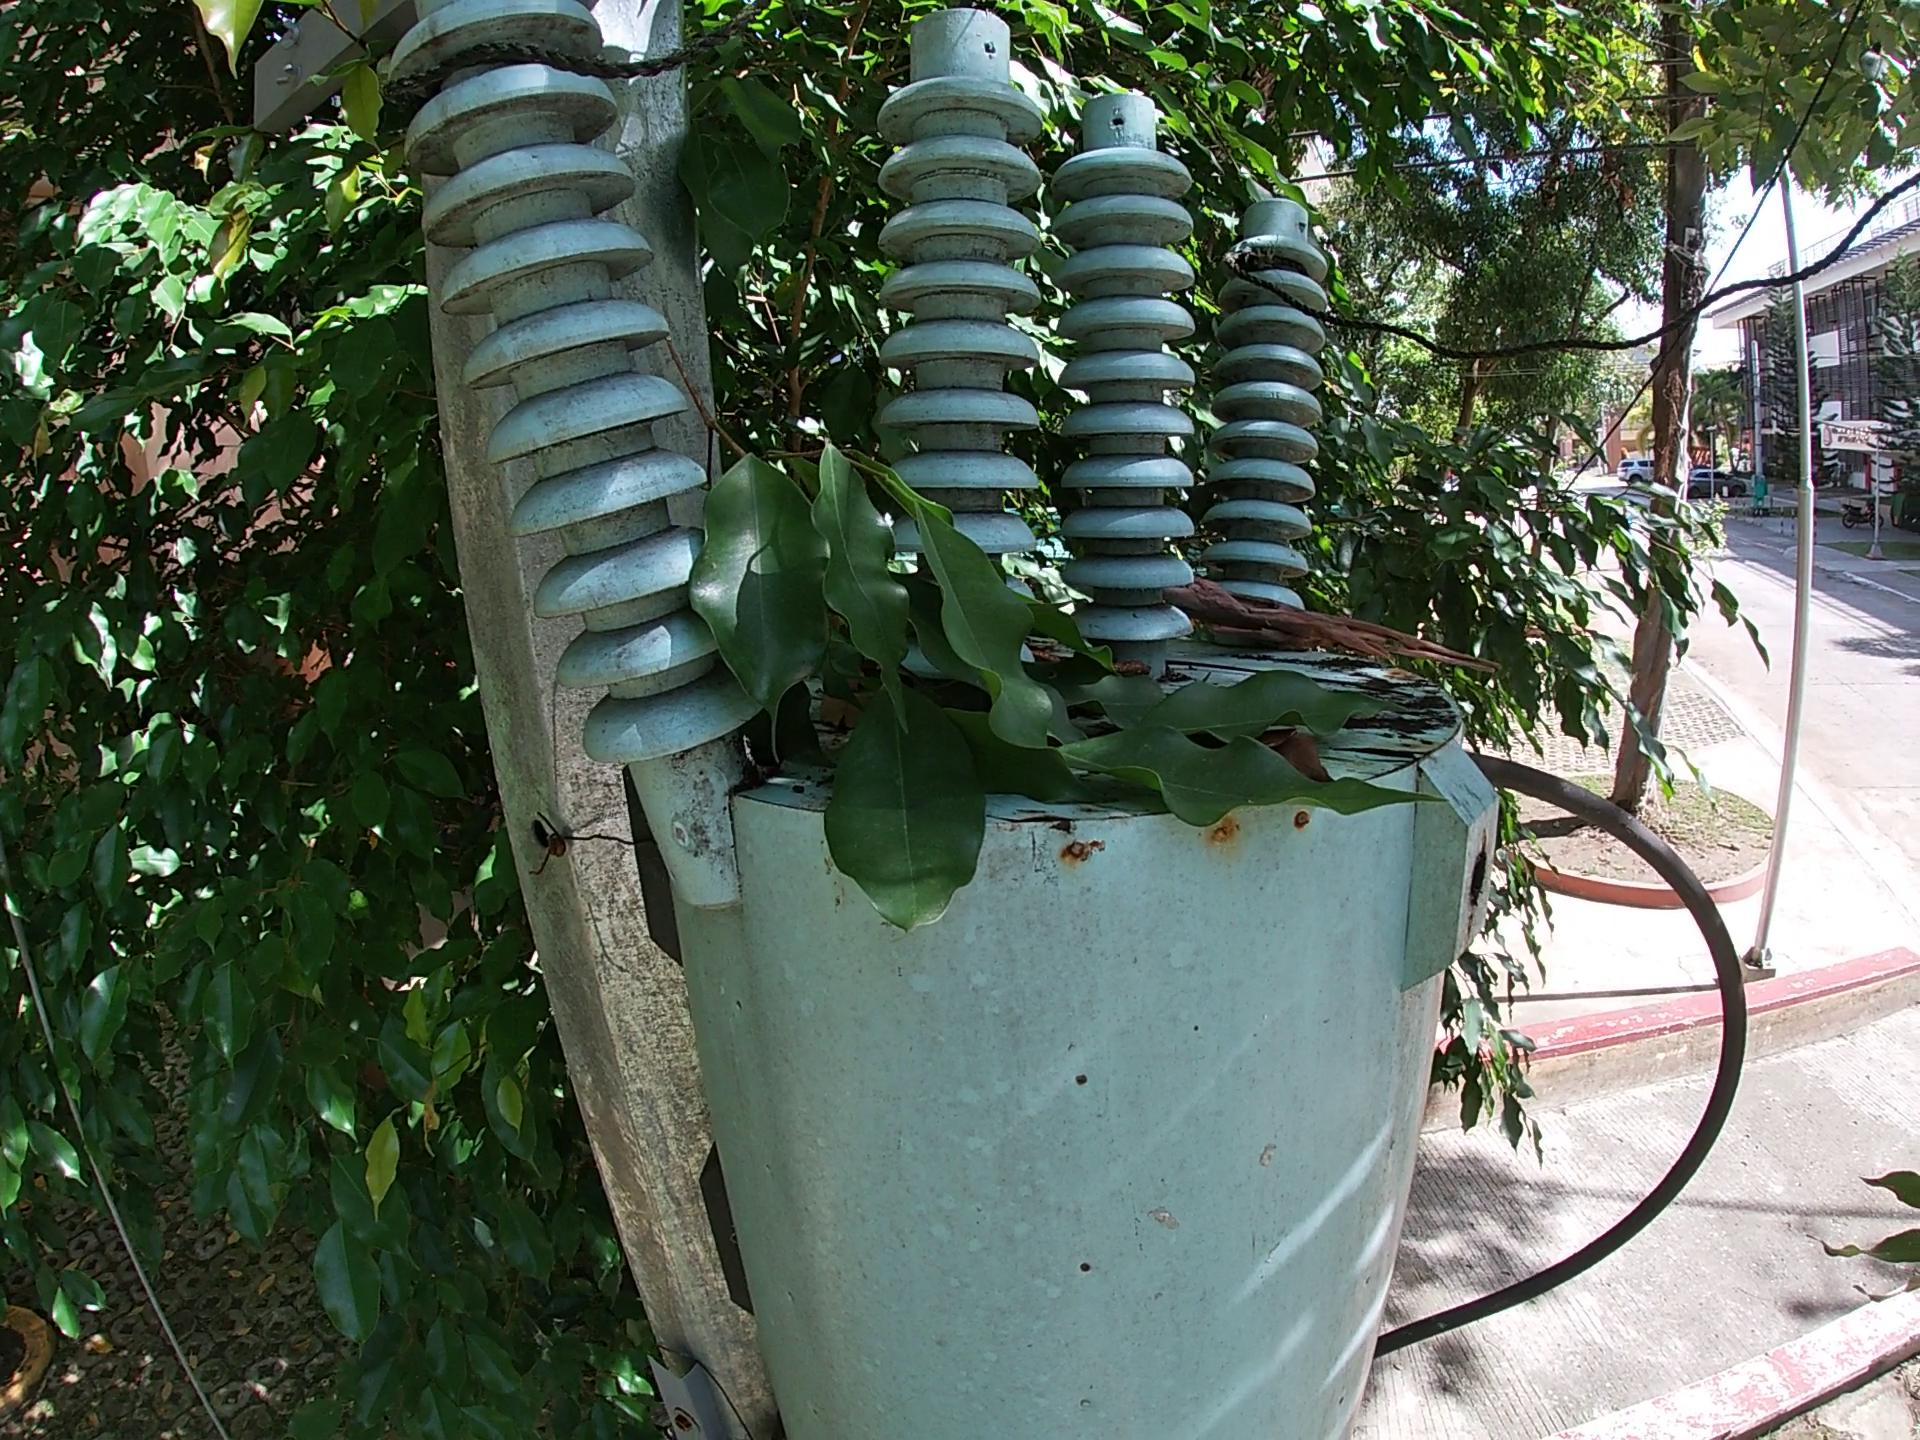branch with leaves: (621, 324, 1482, 959)
mahogany fruit: (1027, 646, 1147, 685), (1276, 746, 1359, 781)
tree branch: (1175, 590, 1504, 679), (1164, 650, 1450, 700)
